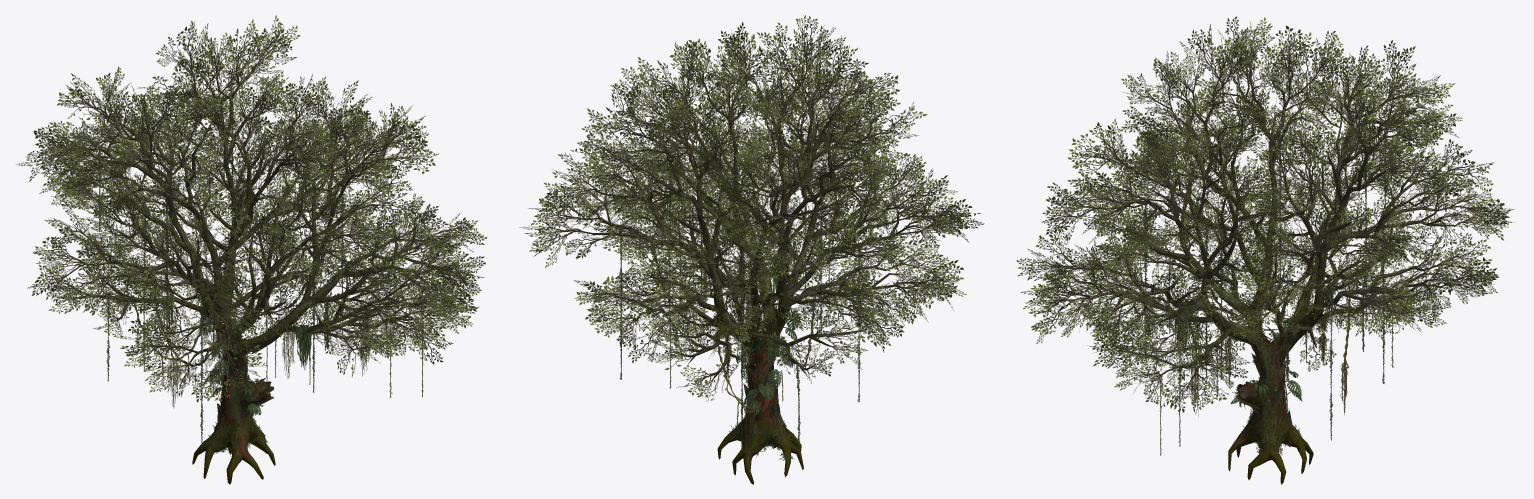
The model's file is tree.glb.
3 renders of one model, left to right at view 1: azimuth 30°, elevation 25°; view 2: azimuth 150°, elevation 25°; view 3: azimuth 270°, elevation 25°, orthographic. The views are drawn at different scales.
Parts seen in each view (by area): view 1: TreeGen_ClusterB_0, TreeGen_BarkB_0, TreeGen_ClusterB2_0, TreeGen_VinesB_0, TreeGen_CortexB_0; view 2: TreeGen_ClusterB_0, TreeGen_BarkB_0, TreeGen_ClusterB2_0, TreeGen_VinesB_0, TreeGen_CortexB_0; view 3: TreeGen_ClusterB_0, TreeGen_BarkB_0, TreeGen_ClusterB2_0, TreeGen_VinesB_0, TreeGen_CortexB_0.
Boxes of the visible parts, x1,y1,x2,y2 form: TreeGen_ClusterB_0: (16,15,487,402); TreeGen_BarkB_0: (48,45,459,484); TreeGen_ClusterB2_0: (37,42,457,386); TreeGen_VinesB_0: (98,107,423,453); TreeGen_CortexB_0: (217,291,274,431); TreeGen_ClusterB_0: (519,15,984,397); TreeGen_BarkB_0: (547,40,947,484); TreeGen_ClusterB2_0: (543,34,957,401); TreeGen_VinesB_0: (619,126,880,463); TreeGen_CortexB_0: (713,310,783,434); TreeGen_ClusterB_0: (1016,16,1514,412); TreeGen_BarkB_0: (1045,45,1485,484); TreeGen_ClusterB2_0: (1049,39,1493,395); TreeGen_VinesB_0: (1143,125,1402,459); TreeGen_CortexB_0: (1235,314,1323,429).
Bounding box in the file's own units: 21.13 × 22.48 × 24.06.
Materials: 6 (6 with a texture image).
